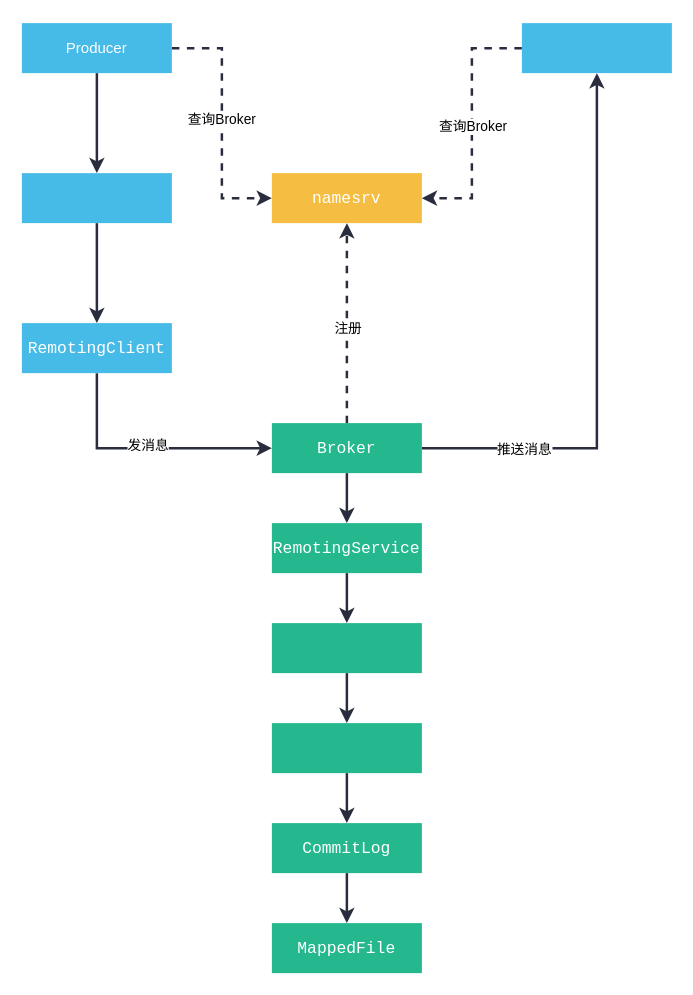
This 693x995 diagram has some shape labels left out. The shapes that lost their labels are listed below. From the top down, each one's centre as x and y in pixels, then its label:
At [596,47]: "Consumer".
At [96,197]: "MQClient".
At [346,647]: "Netty RequestProcessor".
At [346,747]: "MessageStore".
